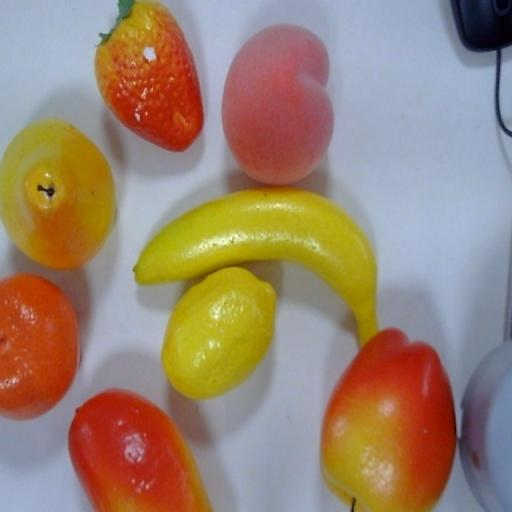Ripe: (132, 185, 422, 326), (312, 319, 460, 512), (221, 16, 359, 188), (62, 383, 222, 512), (0, 114, 129, 274), (154, 267, 292, 396), (92, 1, 204, 153), (0, 274, 80, 417)
